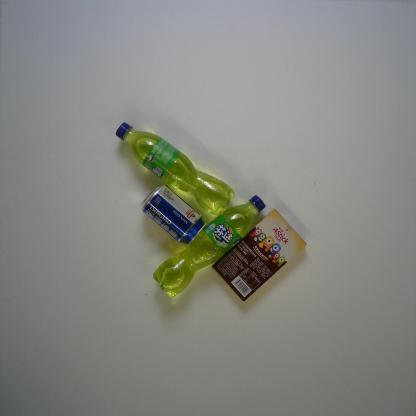Alcohol: (140, 183, 207, 246)
Dessert: (211, 208, 308, 302)
Drink: (152, 193, 267, 298), (114, 121, 236, 217)
